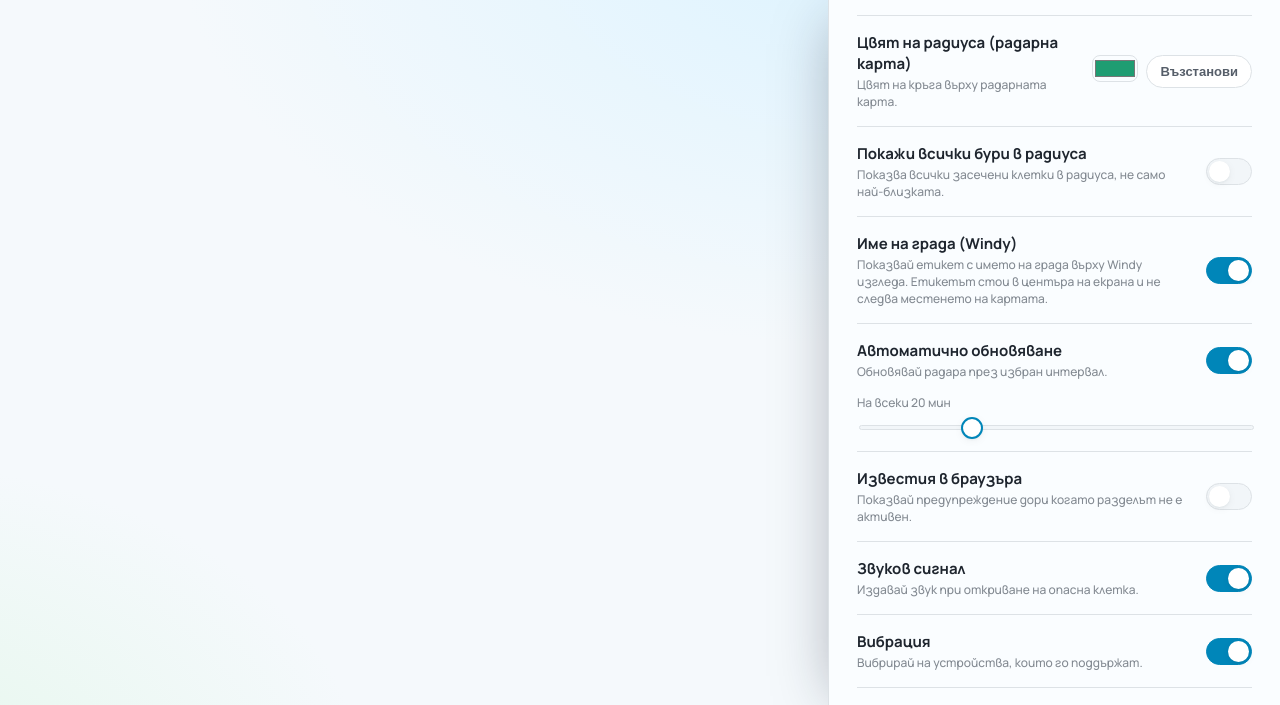
Test: SettingsSheet – auto-refresh interval slider › is hidden when autoRefresh is turned off
(page scrolled)
Click the element with class "toggle" next to "Обновявай радара през избран интервал.".
click(1229, 360)  # box [1206,346,1252,374]
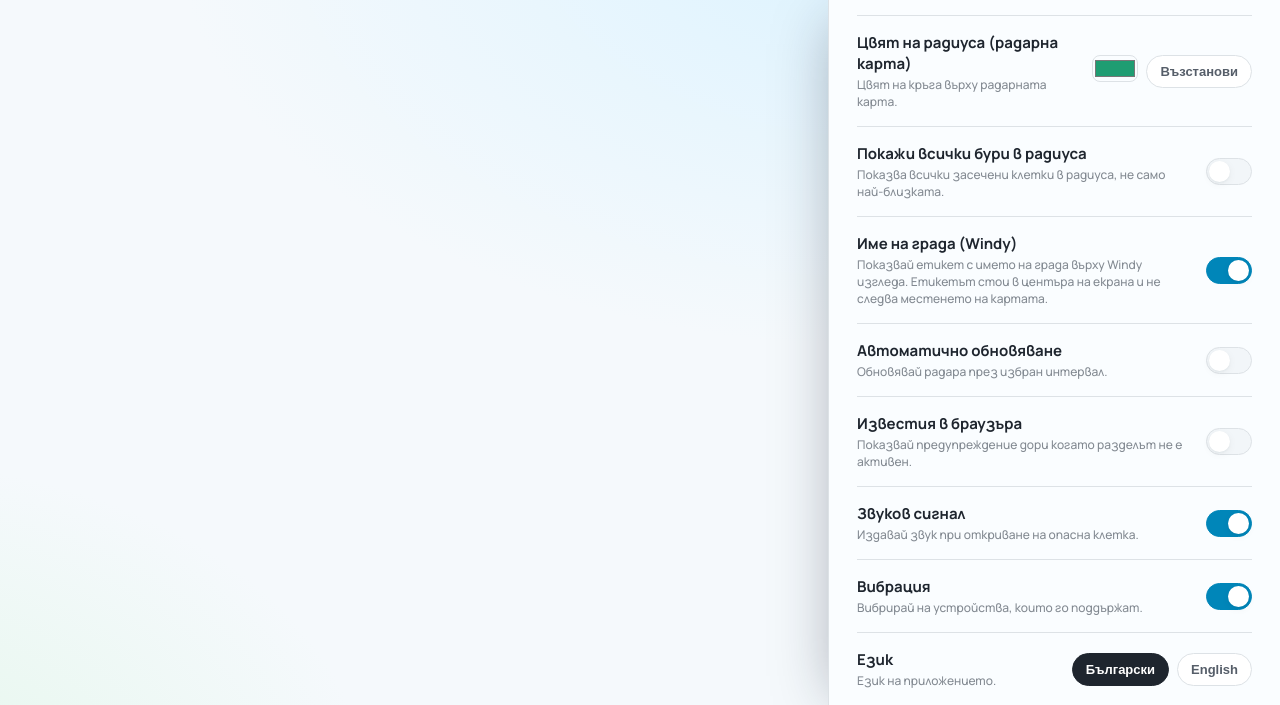
expect the text "На всеки" is gone: met
